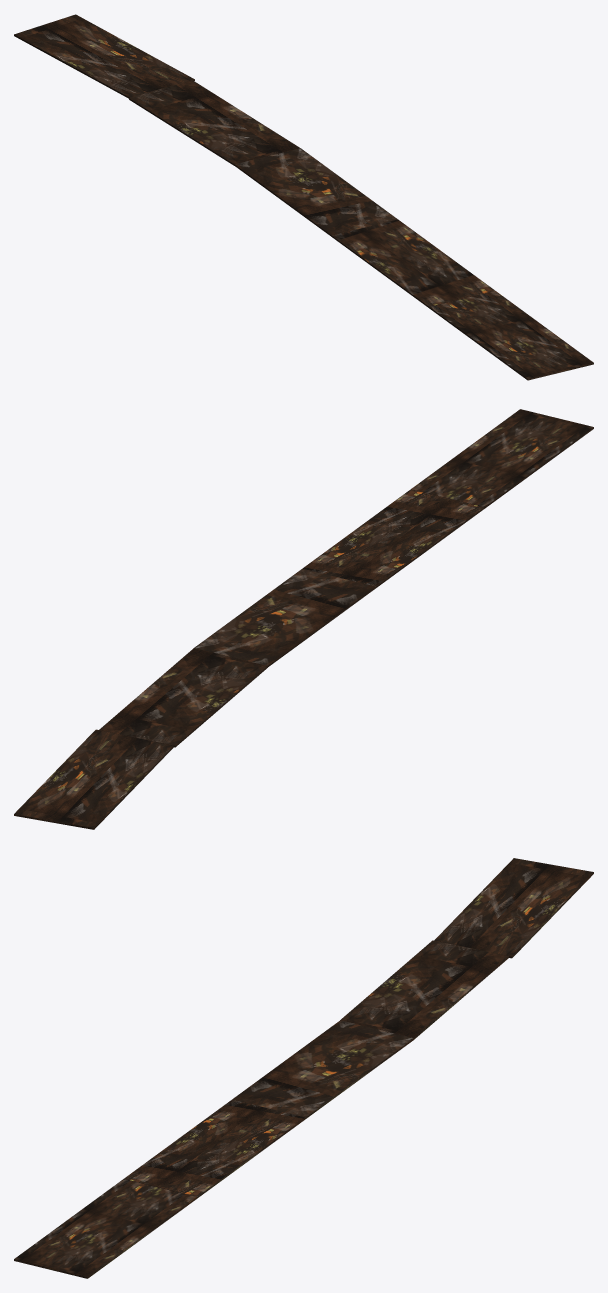
The model's file is SM_subfloor.fbx.
The picture shows the model from 3 angles, top to bottom: view 1: azimuth 30°, elevation 25°; view 2: azimuth 150°, elevation 25°; view 3: azimuth 330°, elevation 25°; orthographic projection. The views are drawn at different scales.
Visible parts, largest first — view 1: SM_subfloor; view 2: SM_subfloor; view 3: SM_subfloor.
Boxes of the visible parts, bbox=[...] form: SM_subfloor: bbox=[14, 14, 593, 380]; SM_subfloor: bbox=[14, 409, 593, 829]; SM_subfloor: bbox=[14, 858, 593, 1278].
Bounding box in the file's own units: 910 × 14.48 × 7779.
